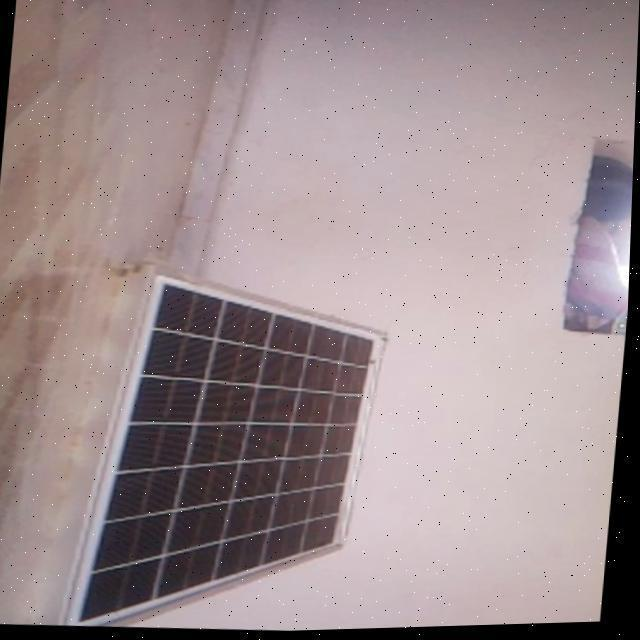Normal Solar Panel: (86, 278, 380, 636)
